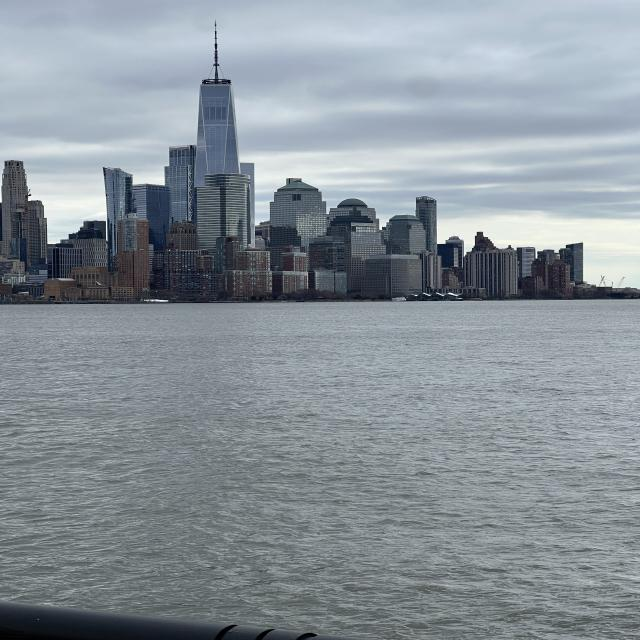WTC: (195, 20, 240, 174)
